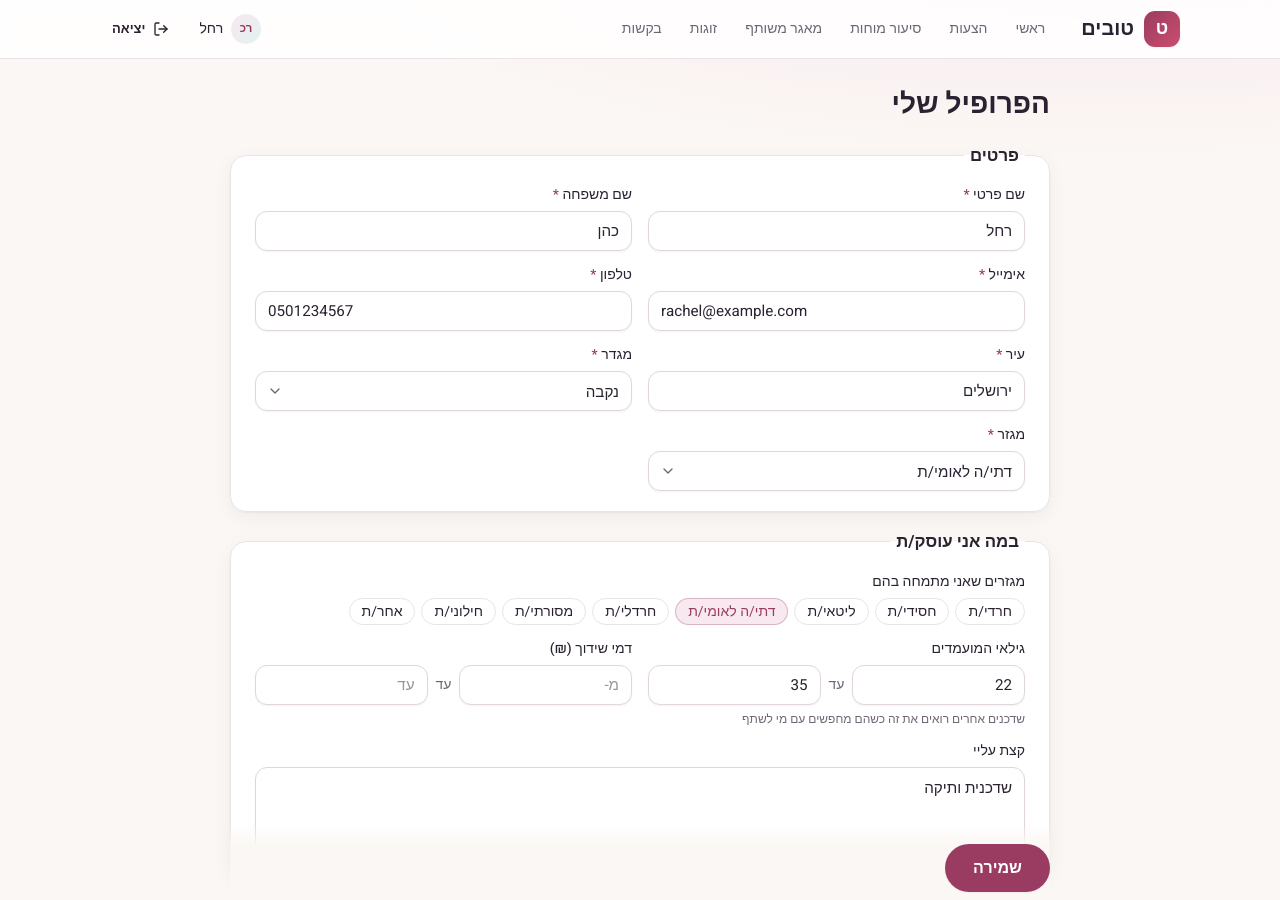
it: matchmaker profile › shows my details and saves changes without touching the password
Check: the number field named "מגיל" holds "22", box [852,665,1025,705]
Replace the text in the field labelled "עיר *" with "בית שמש" at point(836, 391), box [648,371,1025,411]
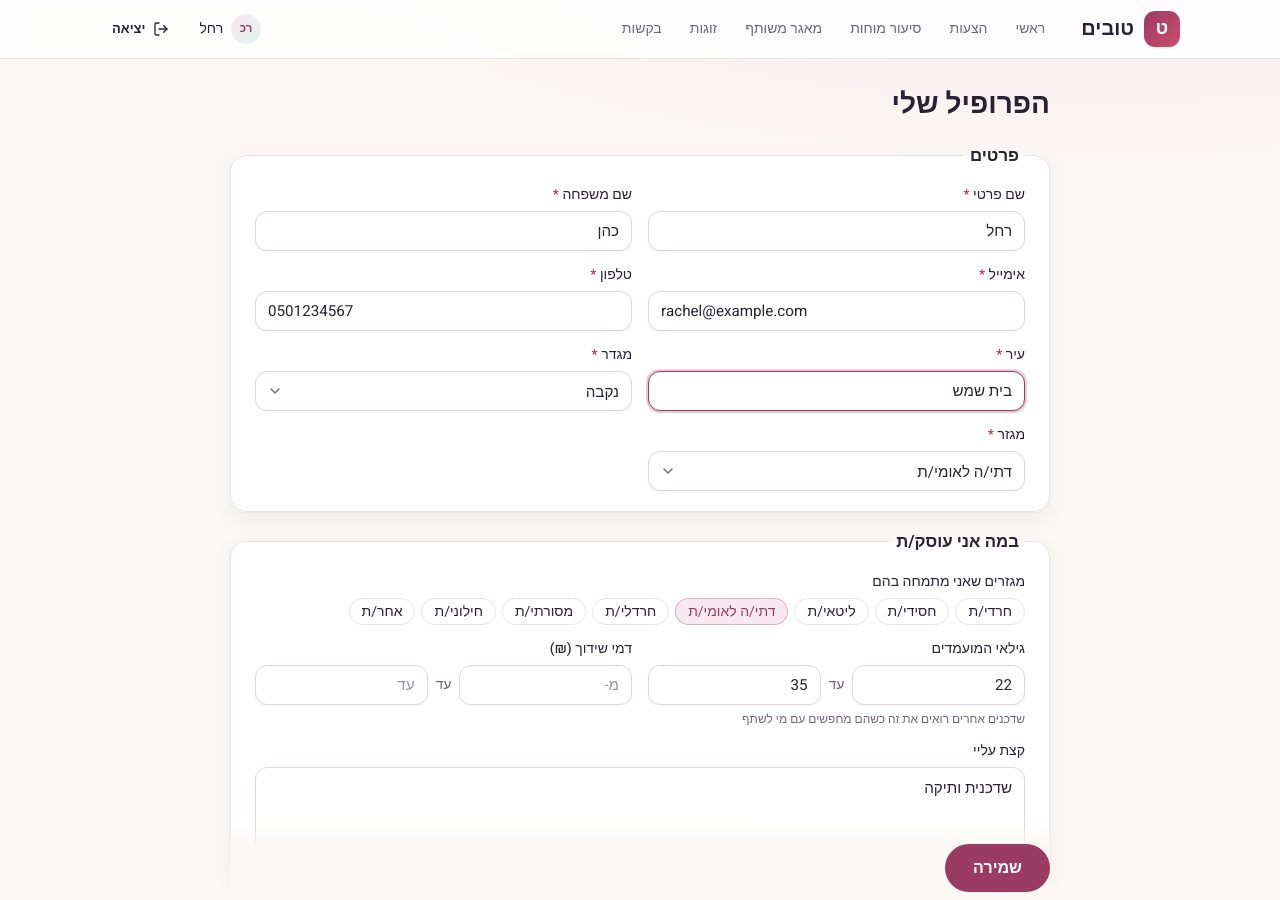
Type "3000" into the number field named "מחיר מינימום" at point(546, 685), box [460,665,632,705]
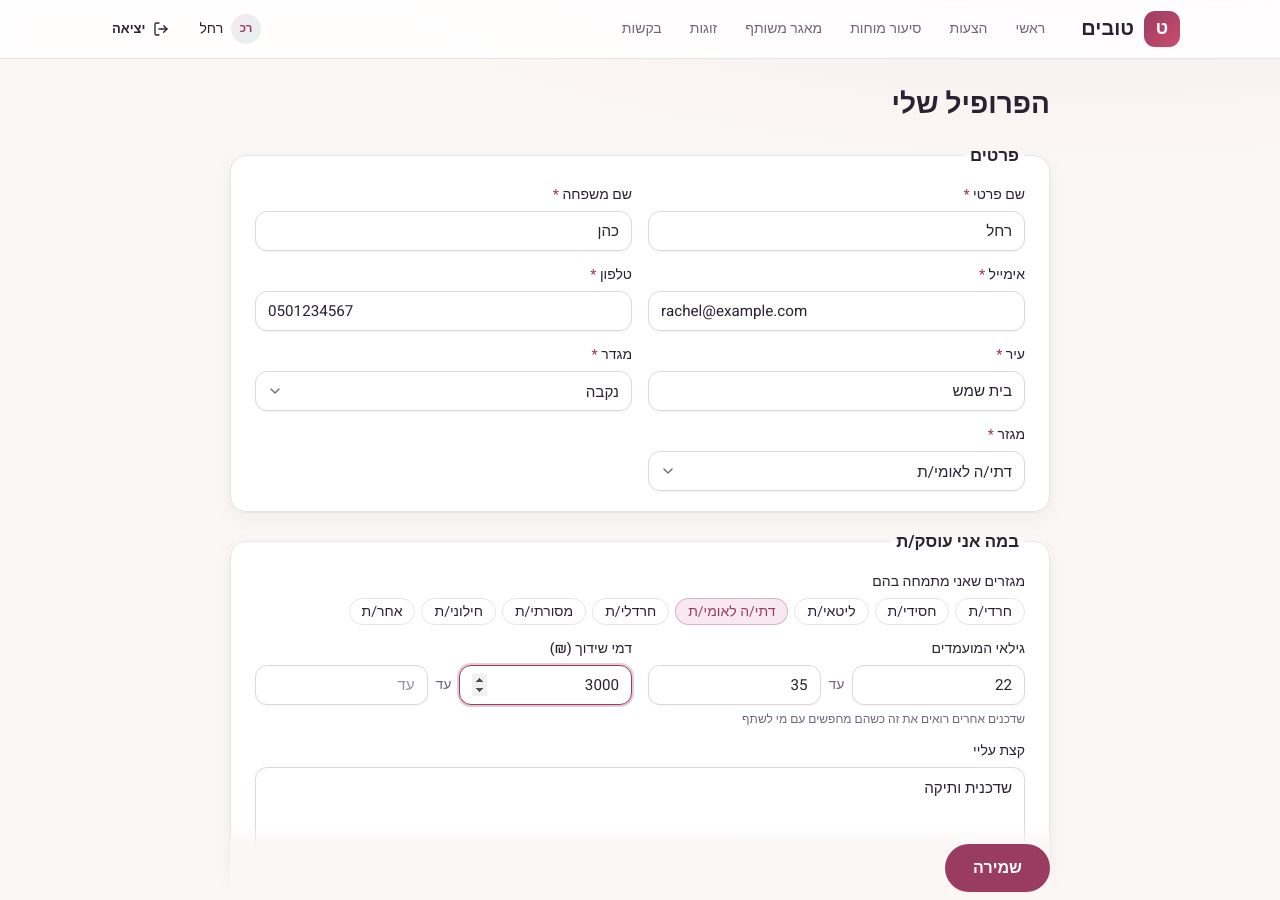
Type "5000" into the number field named "מחיר מקסימום" at point(341, 685), box [255,665,428,705]
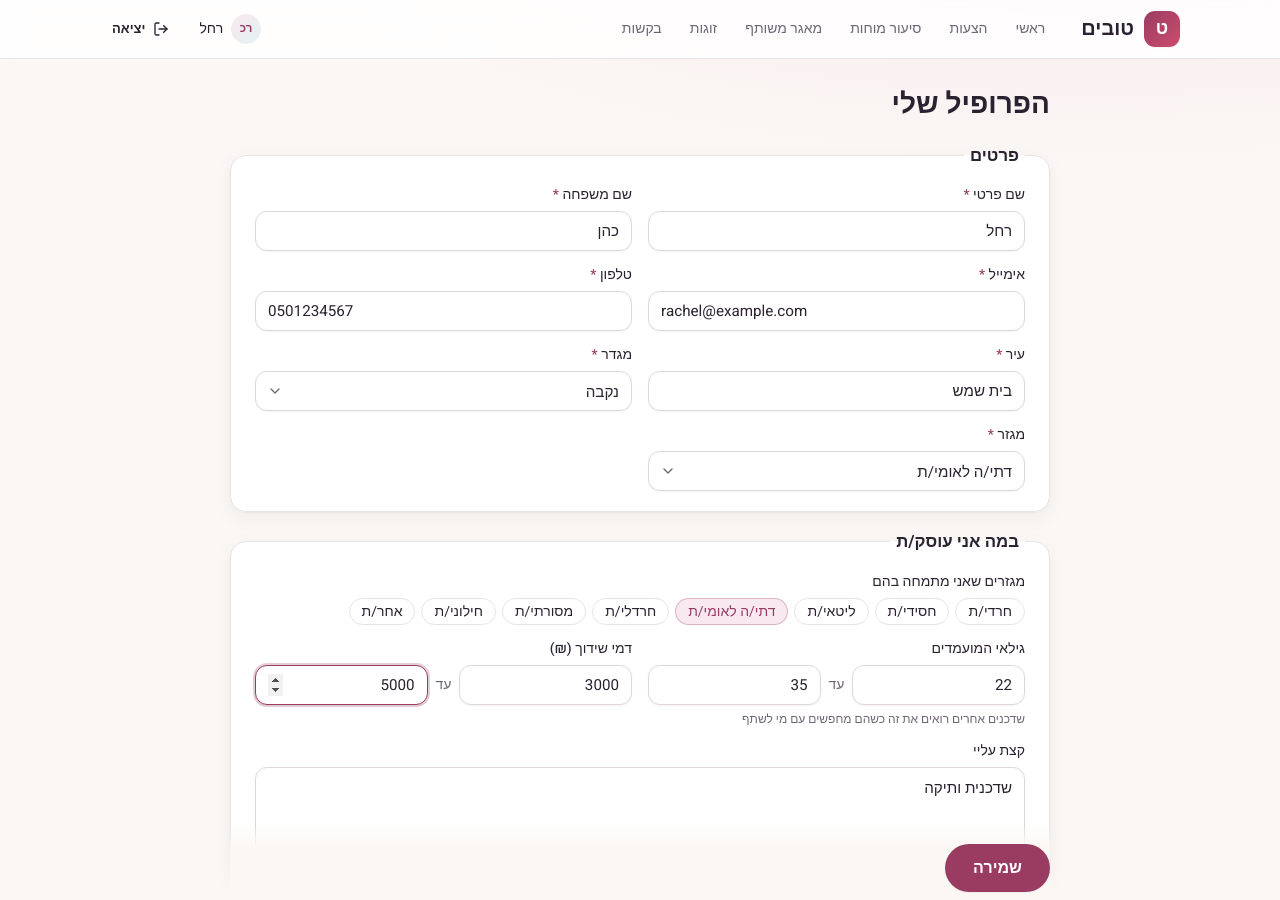
Click the button "שמירה" at point(998, 868), box [945,844,1050,892]
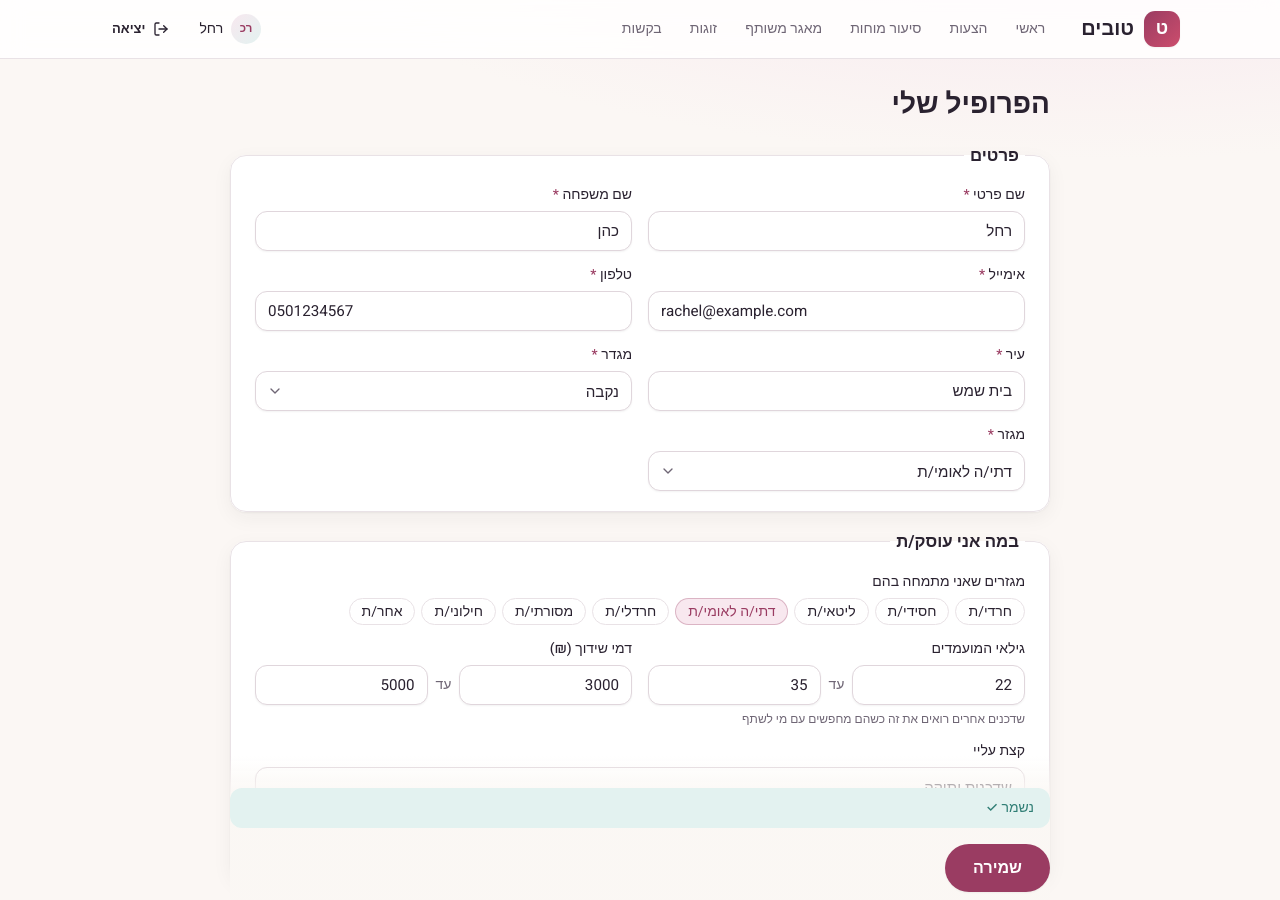
Check: the text "נשמר ✓" is shown, box [230,788,1050,828]
